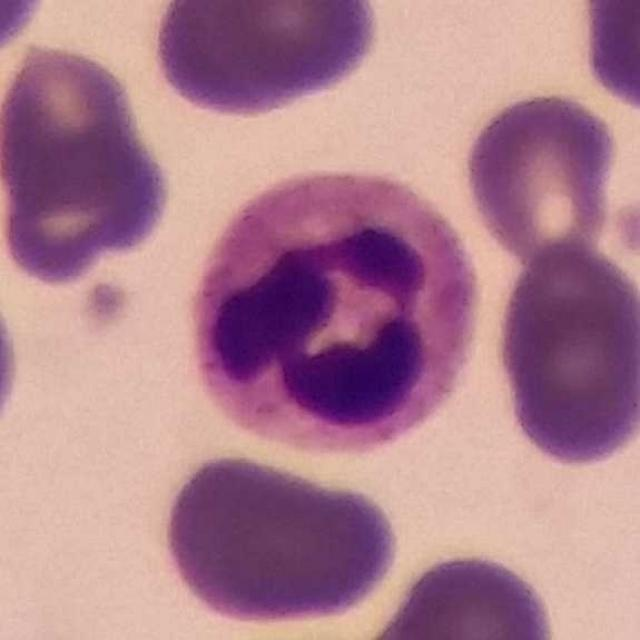Neutrophil: (176, 159, 486, 472)
RBC: (155, 446, 403, 631), (487, 237, 640, 473), (0, 109, 179, 287), (459, 87, 623, 270), (151, 0, 385, 120), (1, 37, 151, 219), (352, 544, 565, 640), (572, 0, 640, 120), (0, 0, 55, 67)
